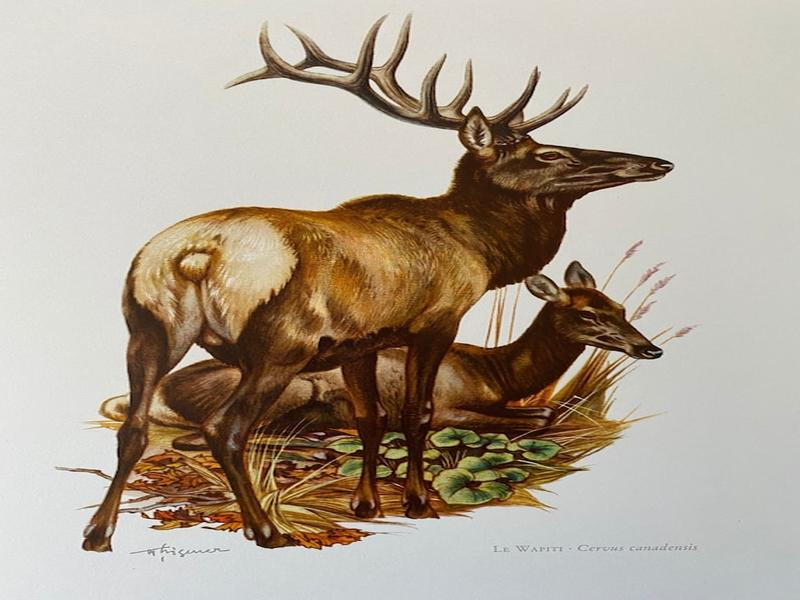elk: (81, 18, 676, 557), (104, 252, 666, 444)
